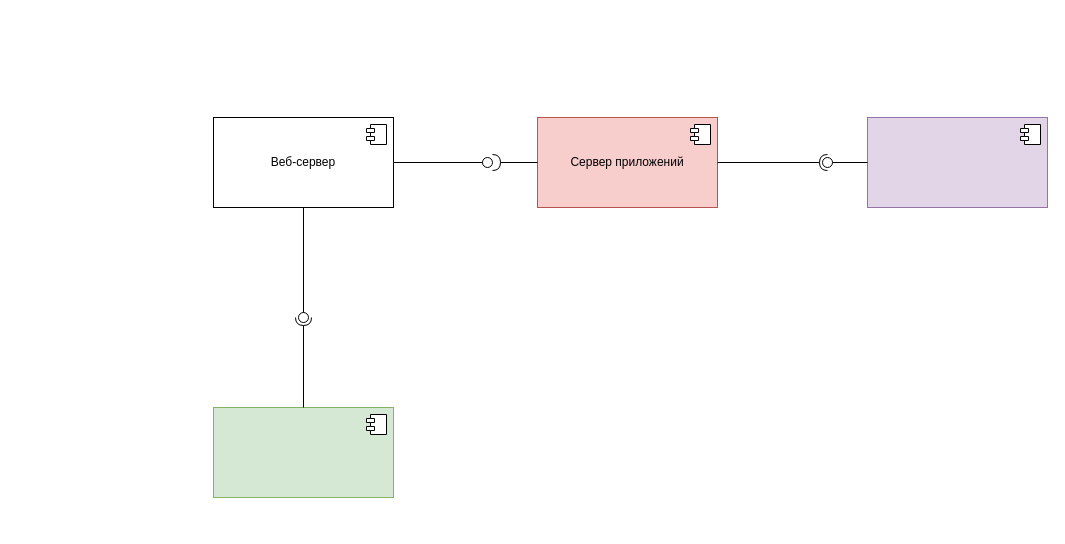
Image size: 1065x544. Some labels were removed from this diagram. The shapes that lost their labels are listed below. From the top down, each one's box as (x1, y1, x2, y2) in pixels, then its label:
(866, 116, 1048, 208): PostgreSQL
(212, 406, 394, 498): Клиент
